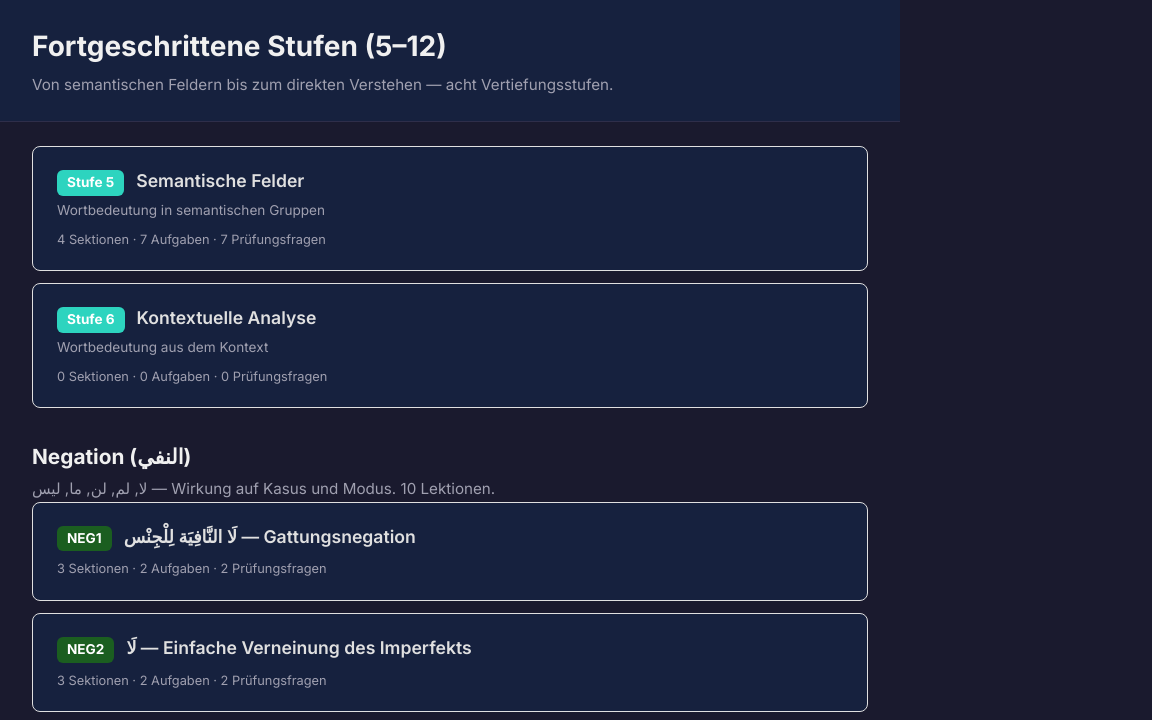
it: Module7 — Fortgeschrittene Stufen › test mode shows questions with options
What coordinates should you click on to do the following:
click the text "Semantische Felder"
I would click on:
 (220, 181)
Its box is 136,170 -> 304,191.
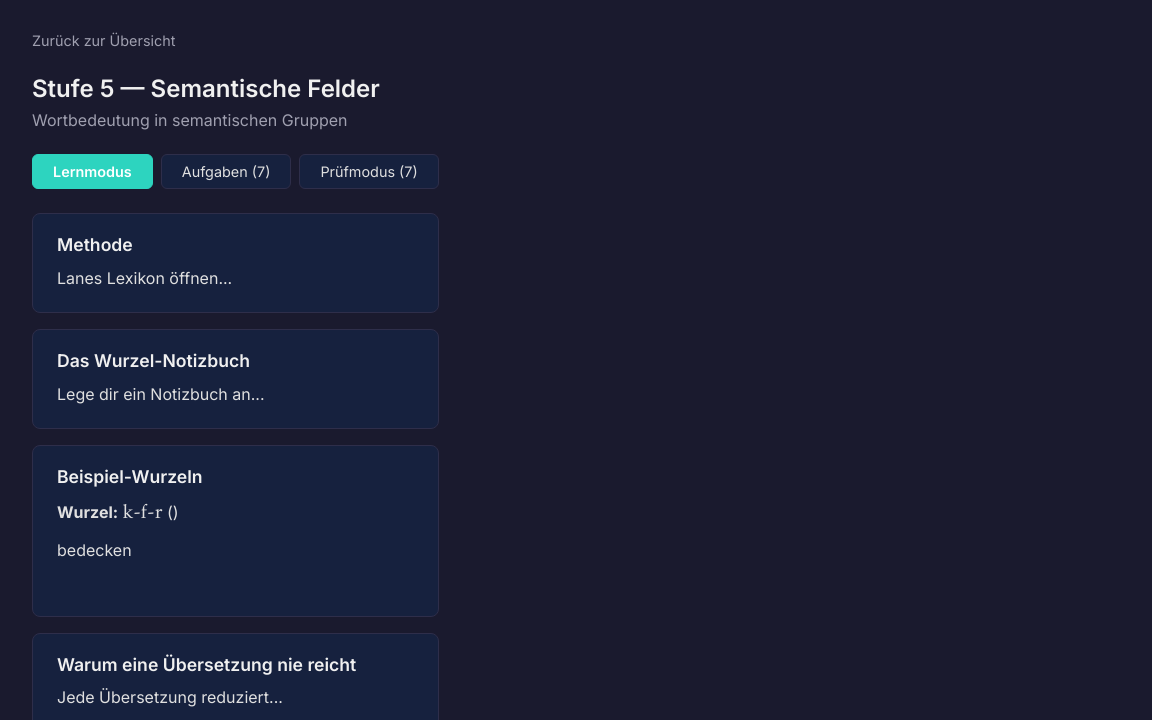
# Click test tab
What coordinates should you click on to do the following:
click the button "Prüfmodus (7)"
I would click on:
 (369, 171)
Its box is 299,154 -> 439,189.
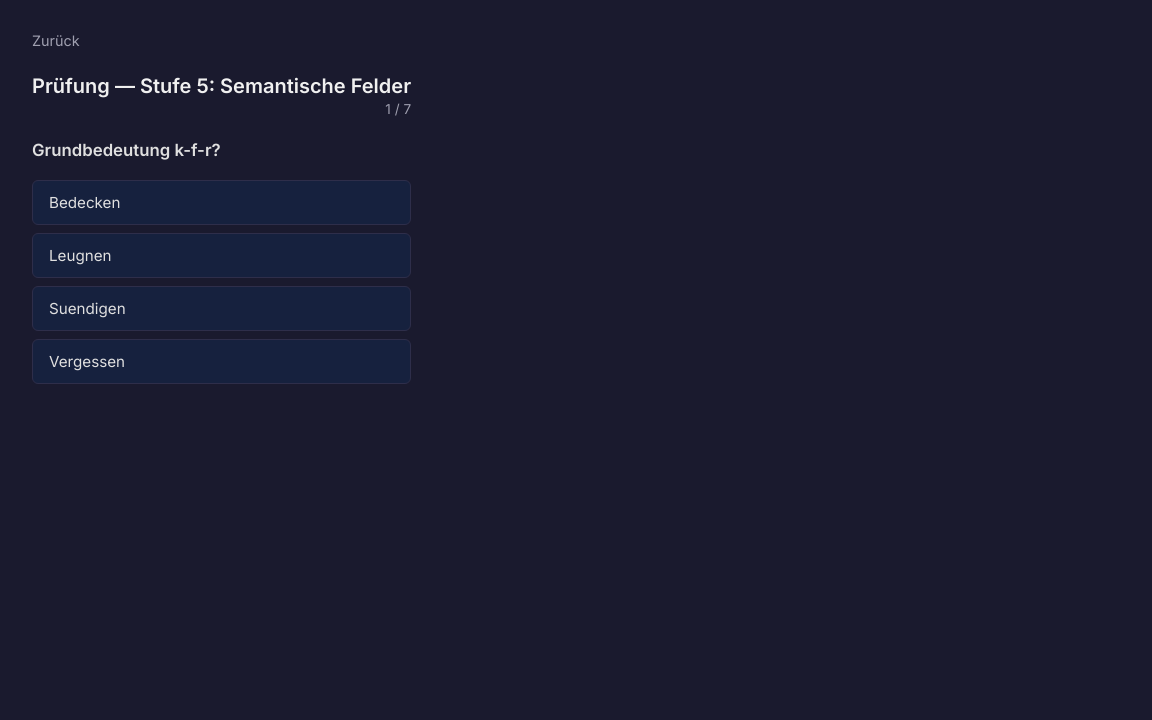
Check: the button "Bedecken" is shown, box 32,180 -> 411,225
Check: the heading "Prüfung — Stufe 5: Semantische Felder" is shown, box 32,73 -> 411,99
Check: the text "Grundbedeutung k-f-r?" is shown, box 32,140 -> 221,160
